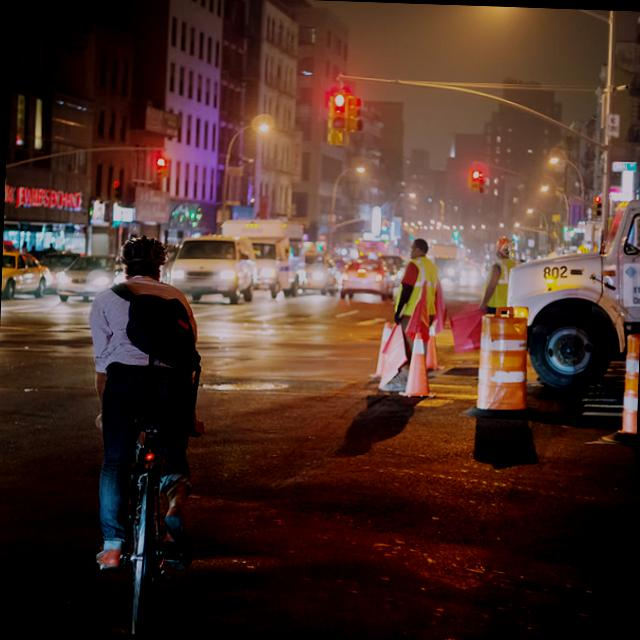Vehicle: (501, 191, 640, 392), (218, 217, 310, 299), (170, 232, 258, 306), (0, 240, 54, 302), (55, 252, 117, 302), (340, 258, 396, 300), (274, 261, 338, 296), (440, 258, 486, 298), (431, 243, 465, 280), (377, 254, 407, 276)
